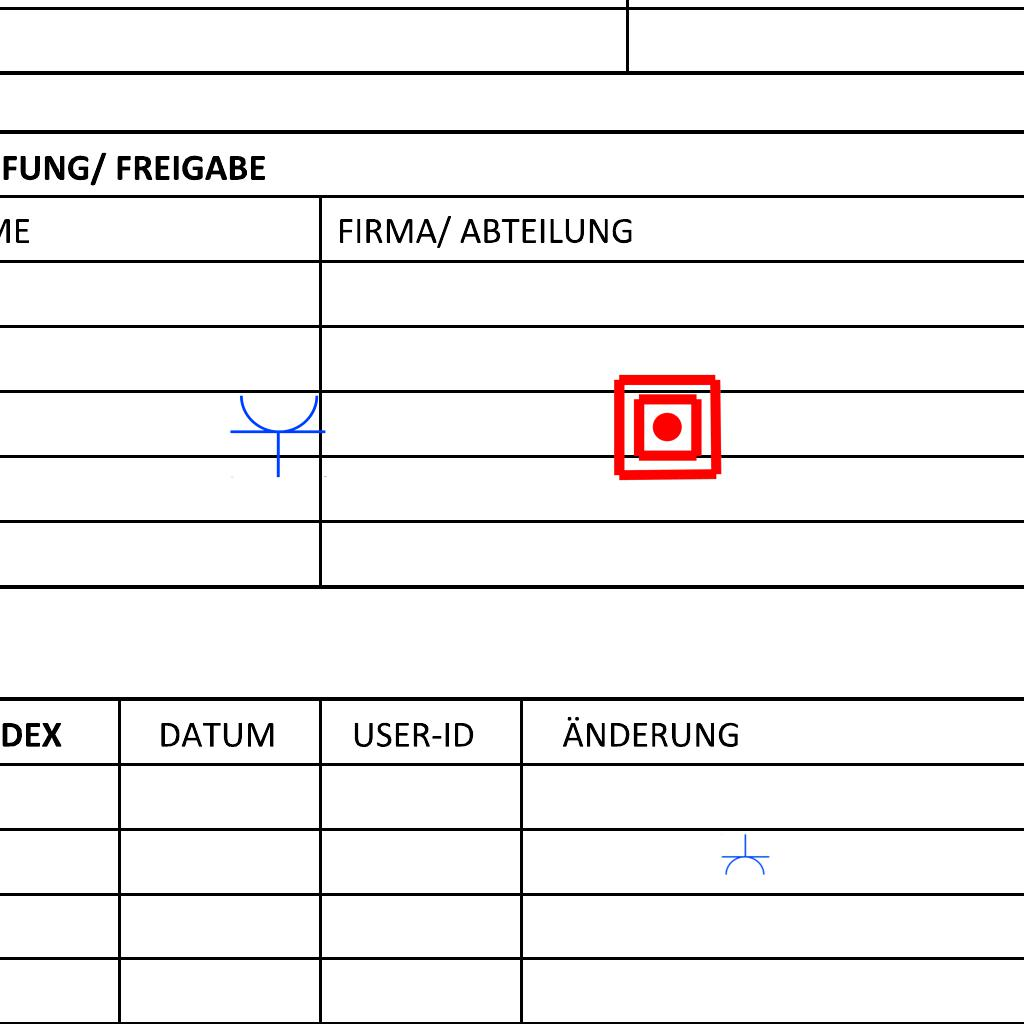NAM-Nichtautomatischer_Melder: (611, 371, 724, 484)
Schukosteckdose_einfach: (229, 391, 329, 478), (720, 834, 770, 877)
